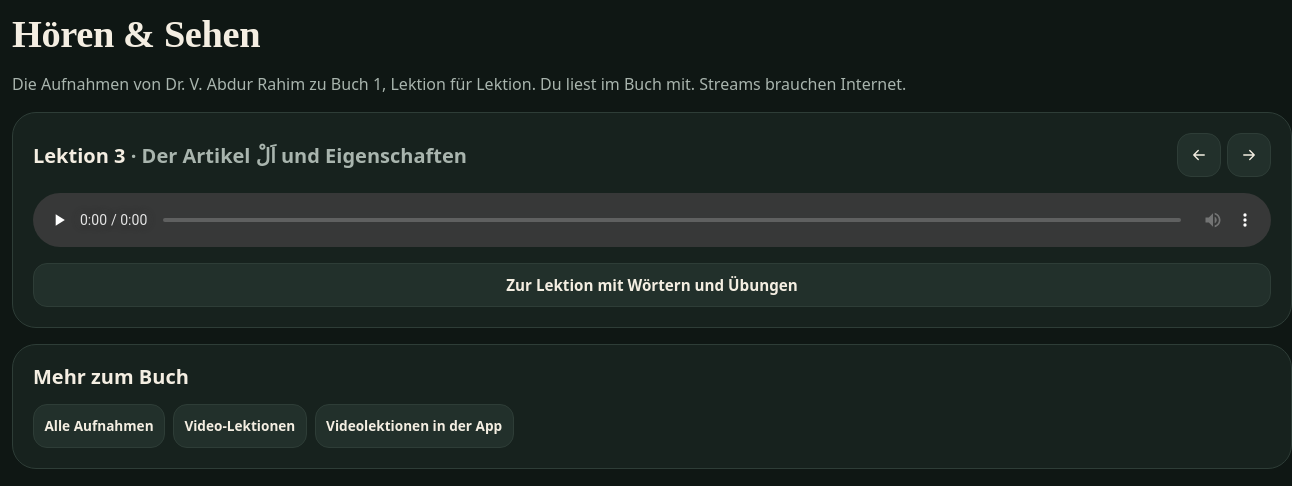
Test case: Course-aware screens (Medina course) › plays the author's recording per lesson in "Hören & Sehen"
The width and height of the screenshot is (1292, 486).
Expected: the heading "Lektion 3 · Der Artikel اَلْ und Eigenschaften" is shown, 33,144 -> 467,167
Click the button named "Nächste Lektion": point(1249, 155) 1227,133 -> 1271,177
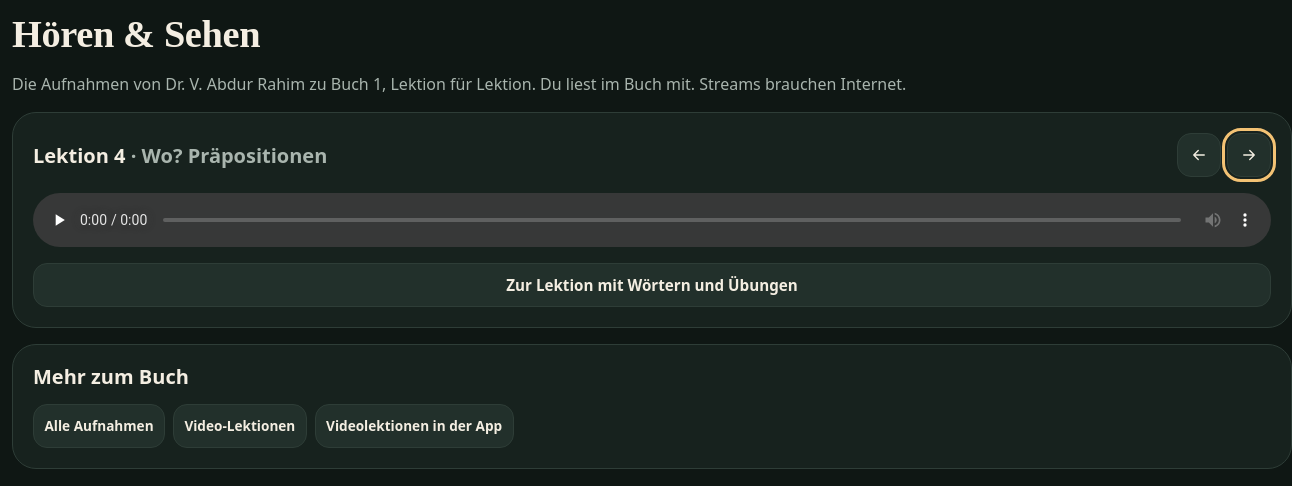
Result: the heading "Lektion 4 · Wo? Präpositionen" is shown at 33,144 -> 327,167
